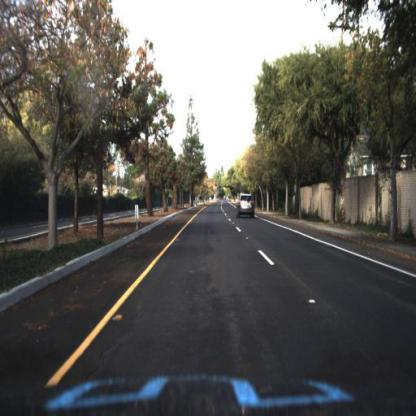car: (237, 193, 257, 220)
